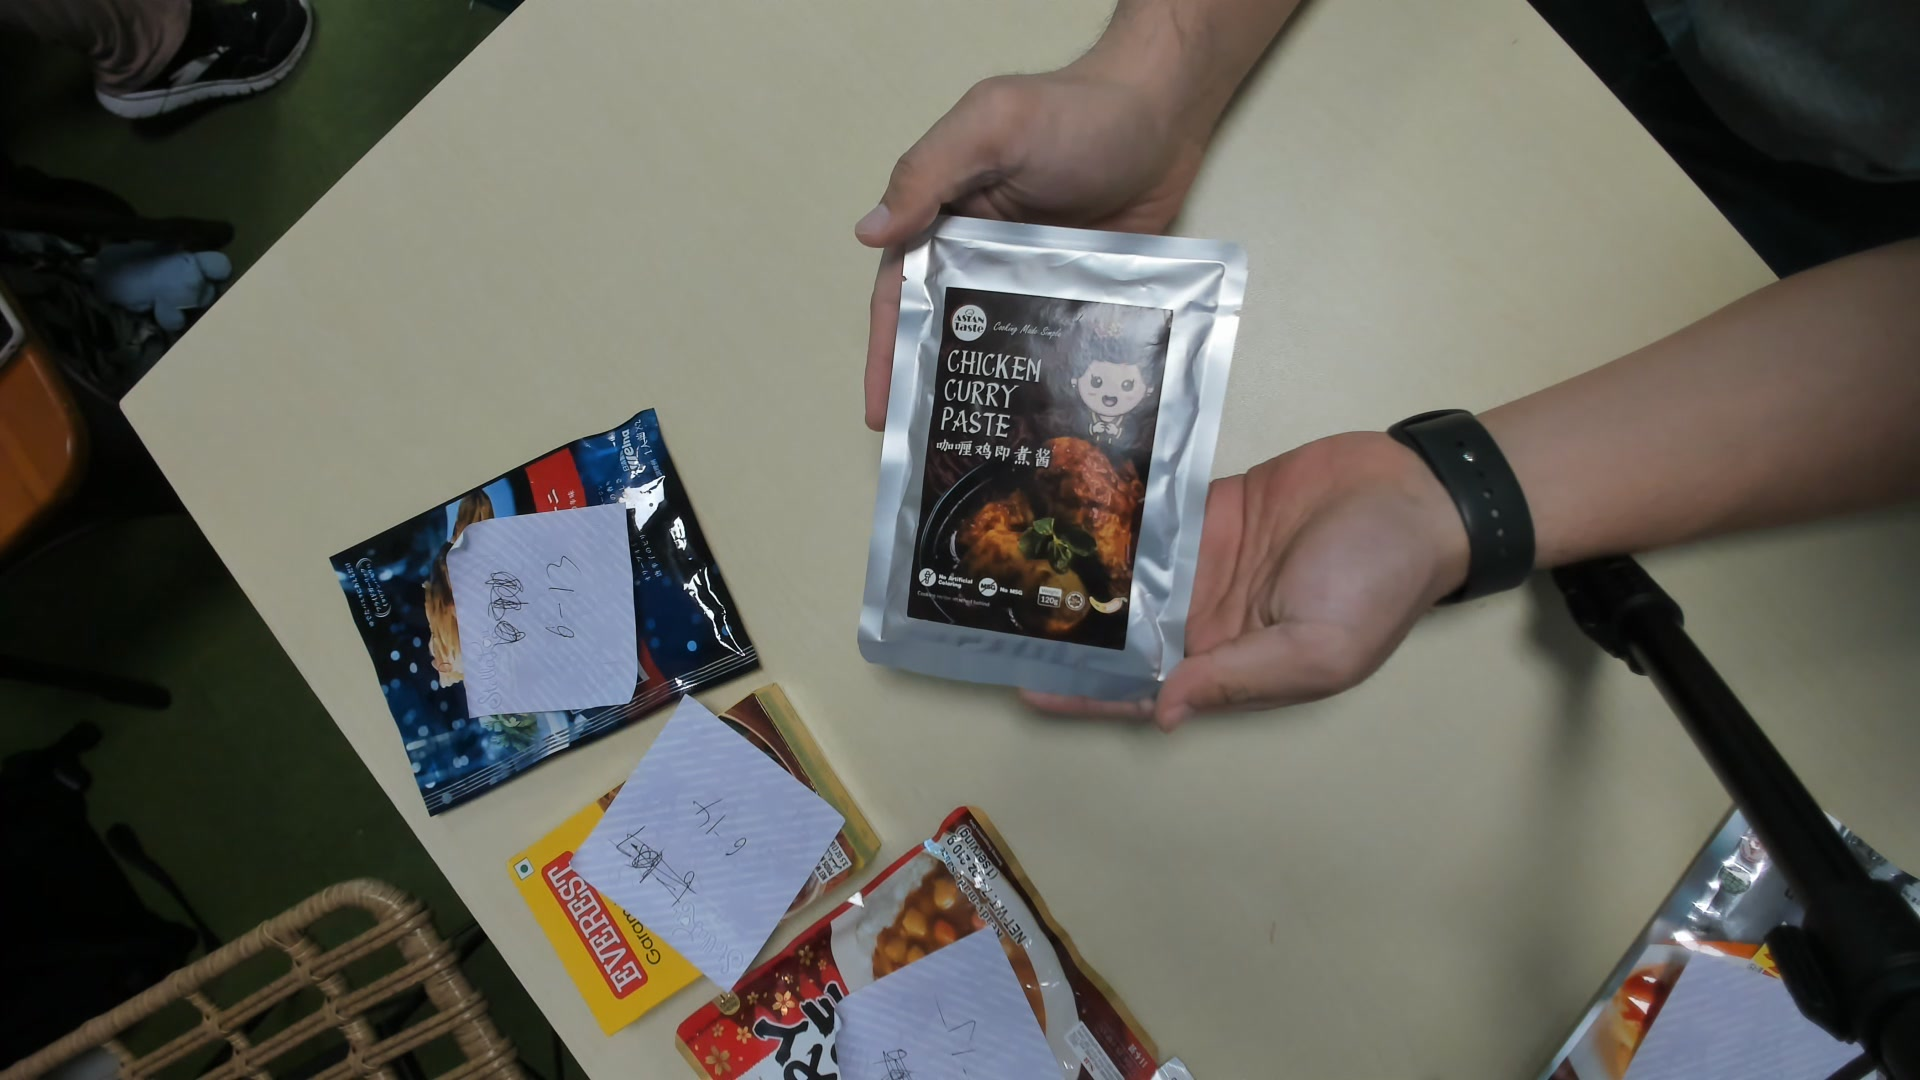CurryPastePowderSauce_100-199g_Halal_NonHealthy: (858, 216, 1238, 708)
